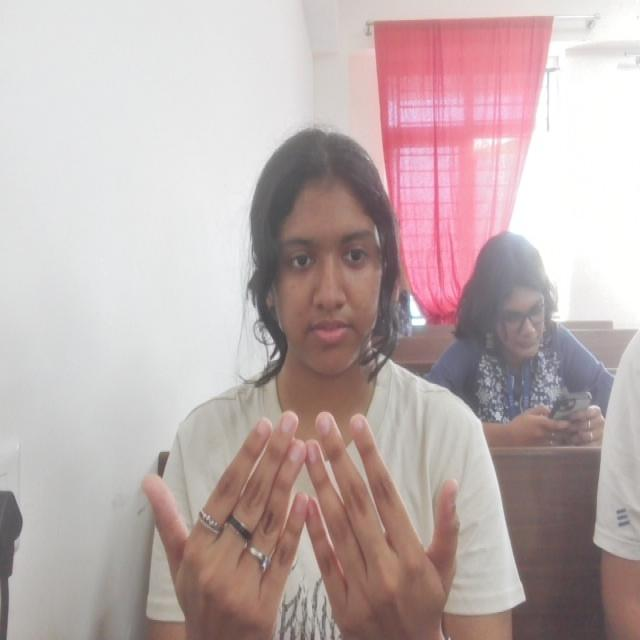thankyou: (139, 406, 465, 640)
